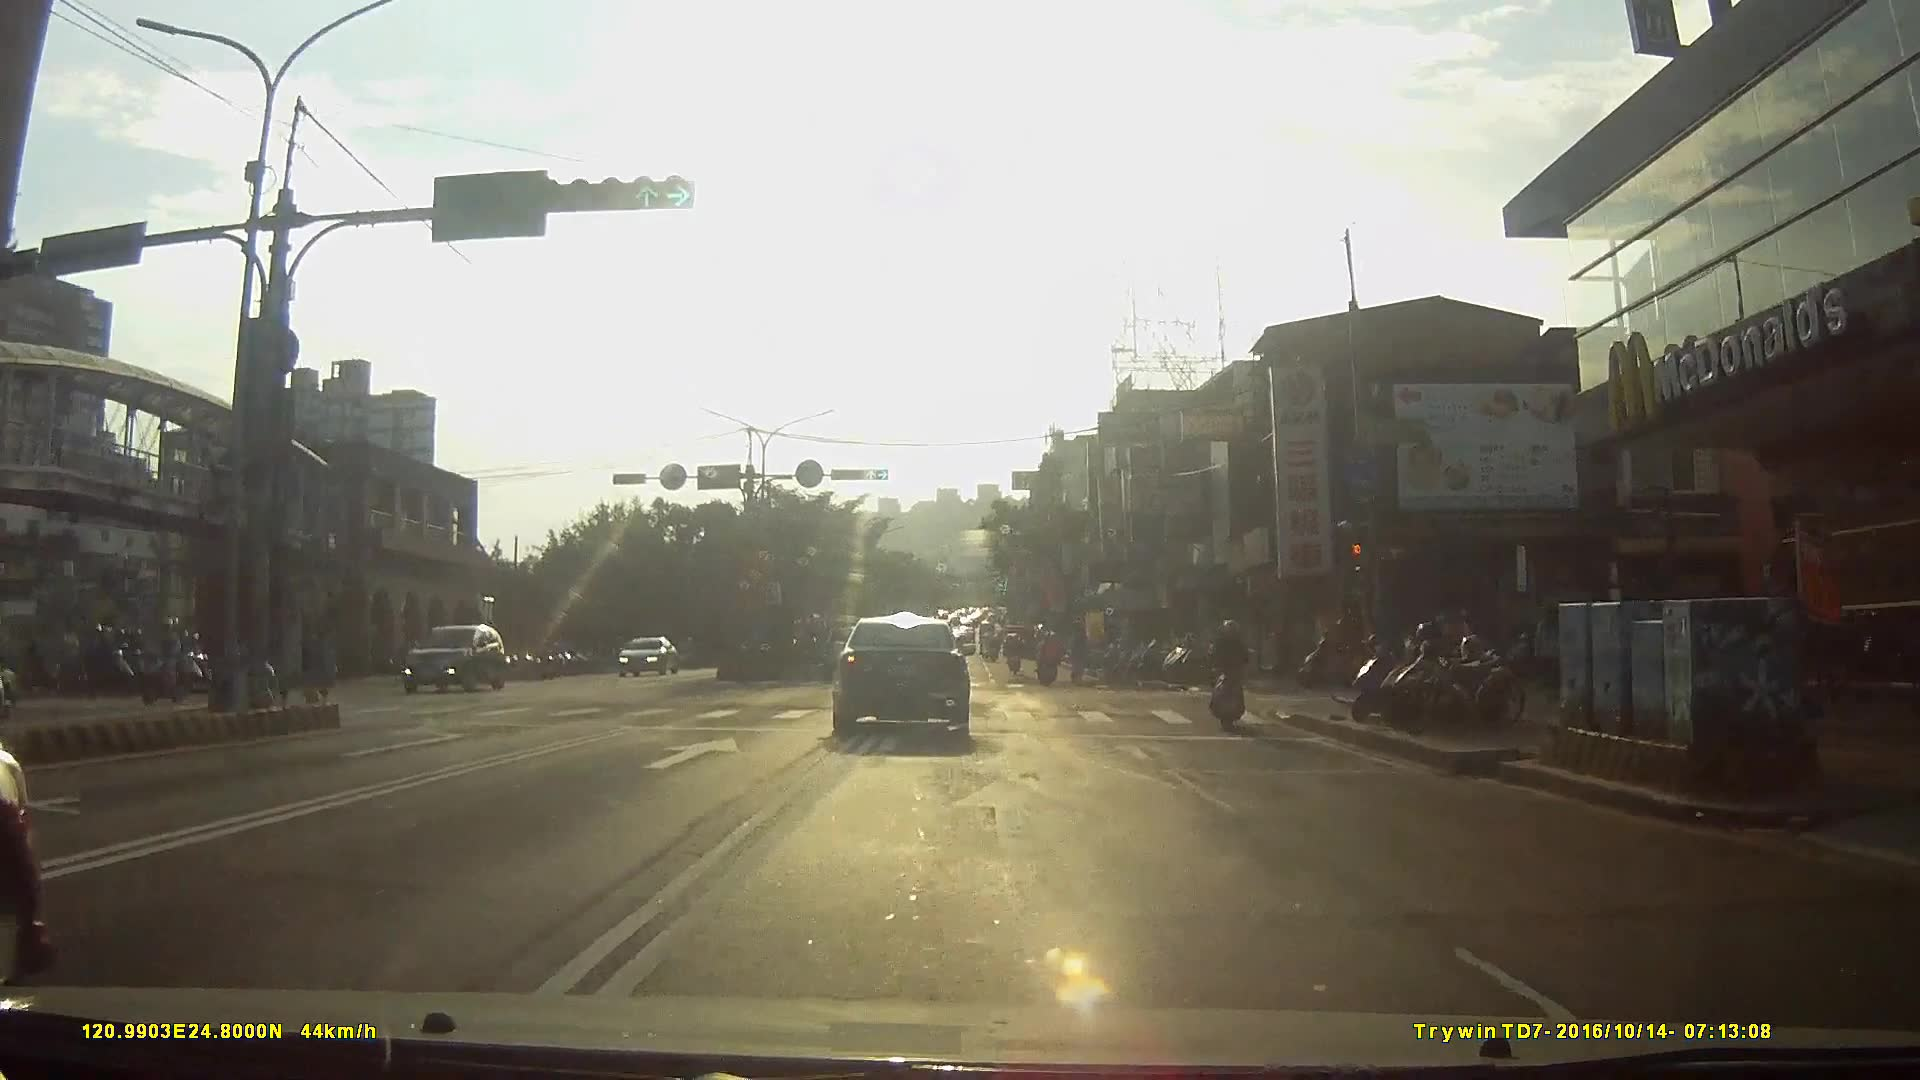pedestrian: (1535, 599, 1573, 705)
rider: (1210, 614, 1258, 728), (65, 625, 142, 694), (140, 612, 197, 703), (163, 630, 219, 694), (1034, 628, 1063, 686), (1004, 633, 1025, 678)
vehicle: (829, 608, 982, 745), (401, 620, 512, 692), (617, 635, 685, 676)
